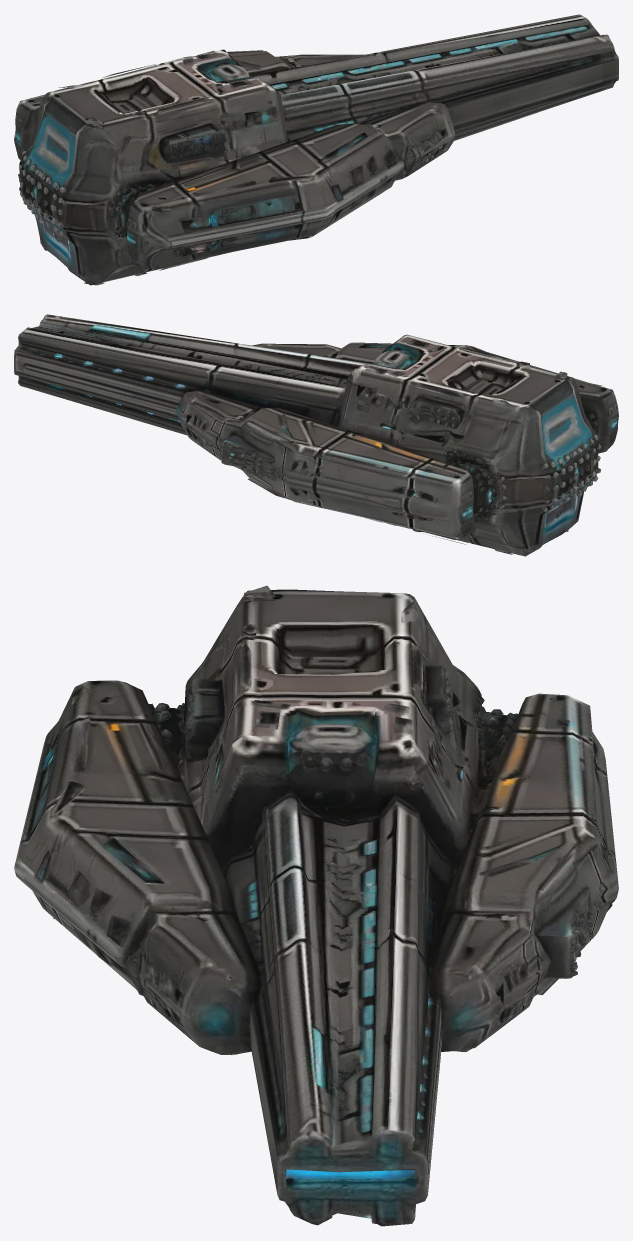
3 renders of one model, top to bottom at view 1: azimuth 30°, elevation 25°; view 2: azimuth 150°, elevation 25°; view 3: azimuth 270°, elevation 25°, orthographic. The views are drawn at different scales.
Visible parts, largest first — view 1: chassis; view 2: chassis; view 3: chassis.
Part boxes in pixels (bbox=[...]): chassis: bbox=[14, 14, 618, 285]; chassis: bbox=[14, 314, 618, 556]; chassis: bbox=[14, 585, 618, 1226].
Bounding box in the file's own units: 0.99 × 0.2698 × 0.5278.
Materials: 1 (1 with a texture image).
